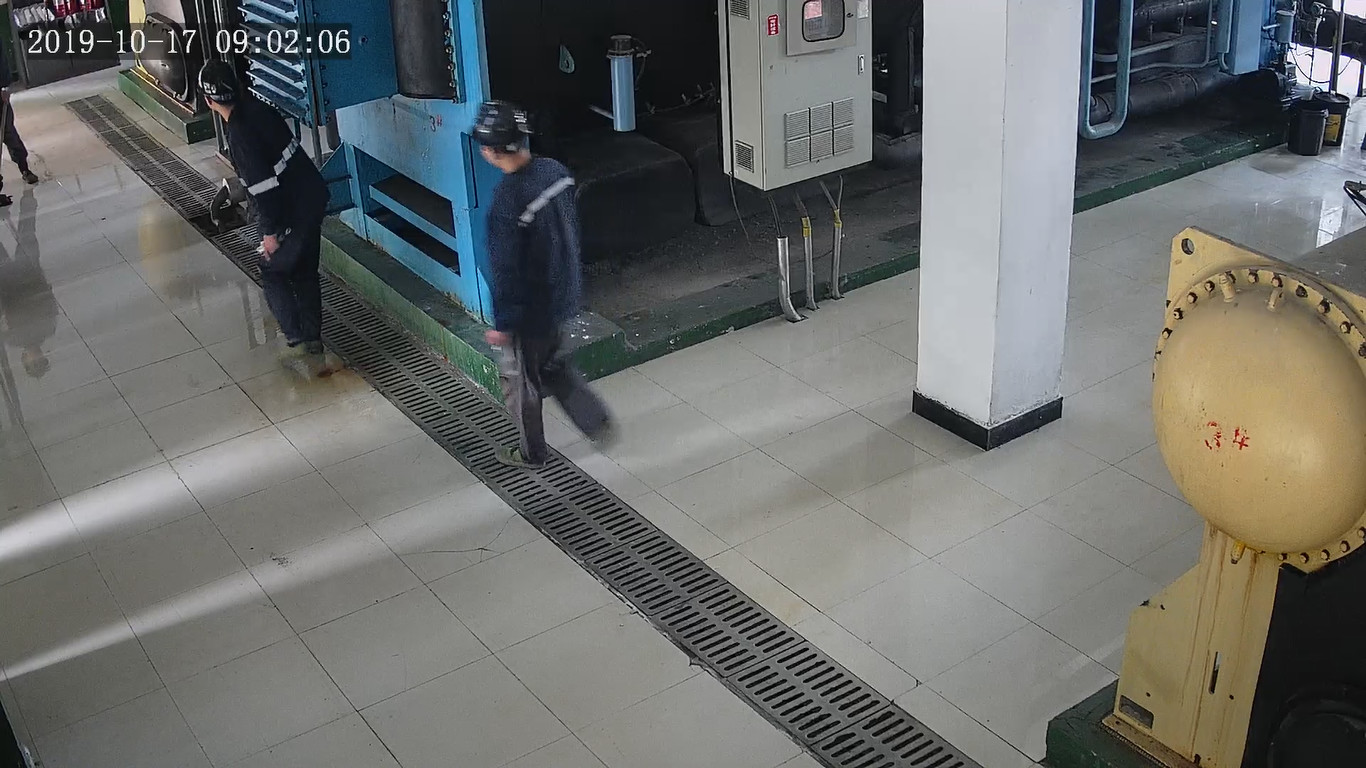helmet: (469, 98, 534, 147), (196, 59, 241, 103)
